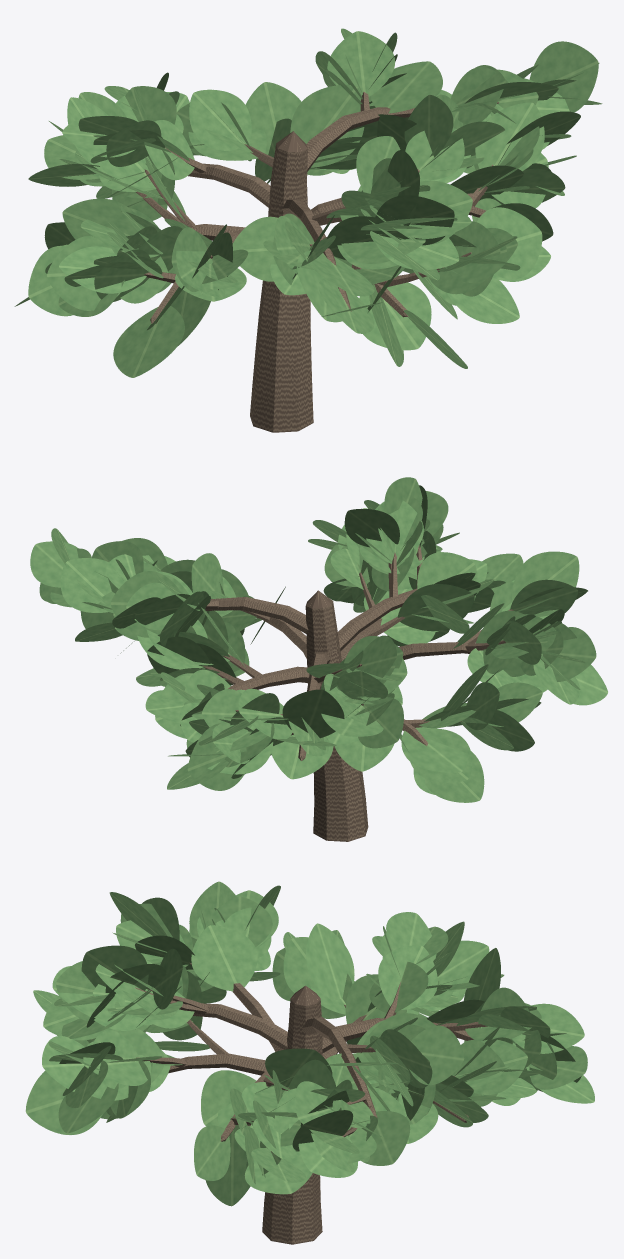
File: 버드나무_01.fbx
The picture shows the model from 3 angles, top to bottom: view 1: azimuth 30°, elevation 25°; view 2: azimuth 150°, elevation 25°; view 3: azimuth 270°, elevation 25°; orthographic projection. The views are drawn at different scales.
Parts seen in each view (by area): view 1: 버드나무_01; view 2: 버드나무_01; view 3: 버드나무_01.
Boxes of the visible parts, x1,y1,x2,y2 form: 버드나무_01: (14, 28, 602, 432); 버드나무_01: (30, 477, 607, 841); 버드나무_01: (25, 881, 594, 1244).
Size of the model in its own units: 14714 by 7980 by 13597.
Materials: 2 (2 with a texture image).
